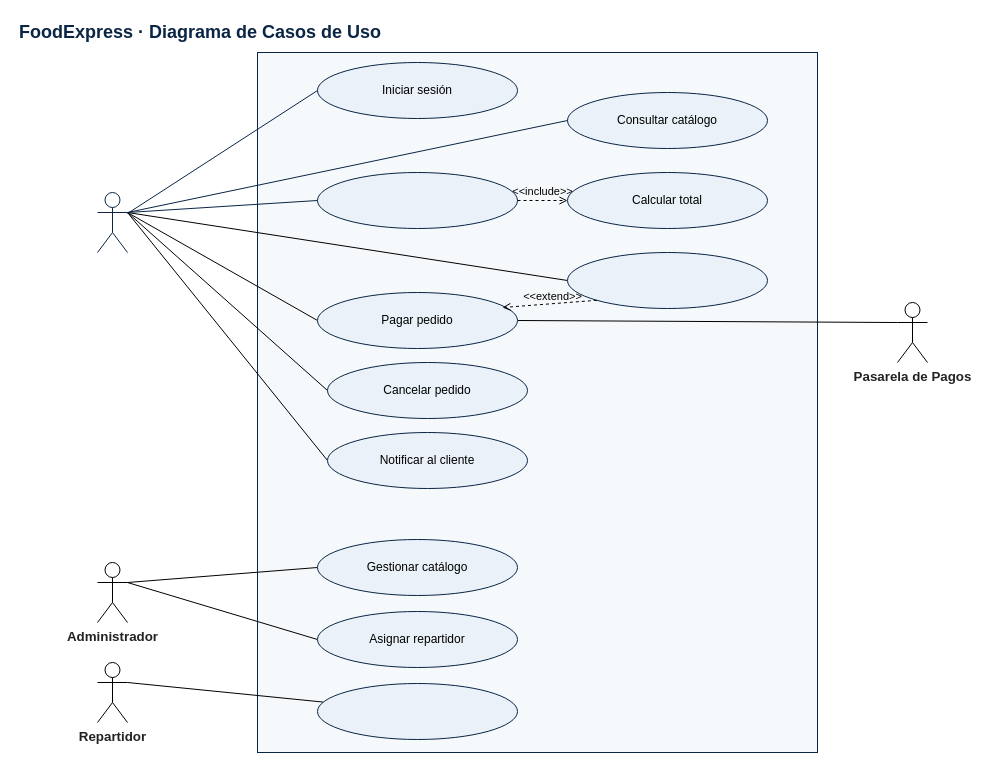
Some shapes in this 988 by 770 pixel diagram are drawn without their labels. Here are the shapes that lost their labels. From the top down, the box of each, then its label:
(316, 172, 518, 228): Registrar pedido
(96, 192, 128, 252): Cliente
(566, 252, 768, 308): Aplicar cupón
(316, 682, 518, 740): Actualizar estado de entrega
